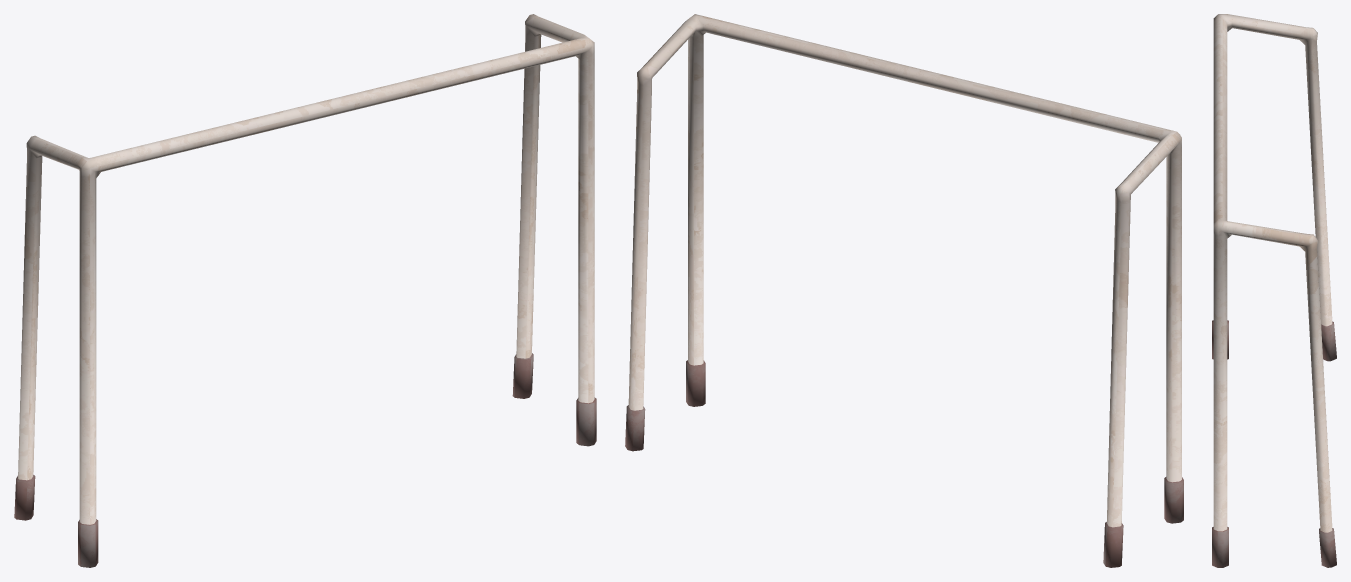
File: 장애물_골대.fbx
The picture shows the model from 3 angles, left to right: view 1: azimuth 30°, elevation 25°; view 2: azimuth 150°, elevation 25°; view 3: azimuth 270°, elevation 25°; orthographic projection. The views are drawn at different scales.
Visible parts, largest first — view 1: 골대; view 2: 골대; view 3: 골대.
Part boxes in pixels (x1,y1,x2,y2): 골대: [14, 14, 596, 567]; 골대: [625, 14, 1183, 567]; 골대: [1212, 14, 1336, 567].
Size of the model in its own units: 400 by 299 by 98.68.
Materials: 1 (1 with a texture image).
